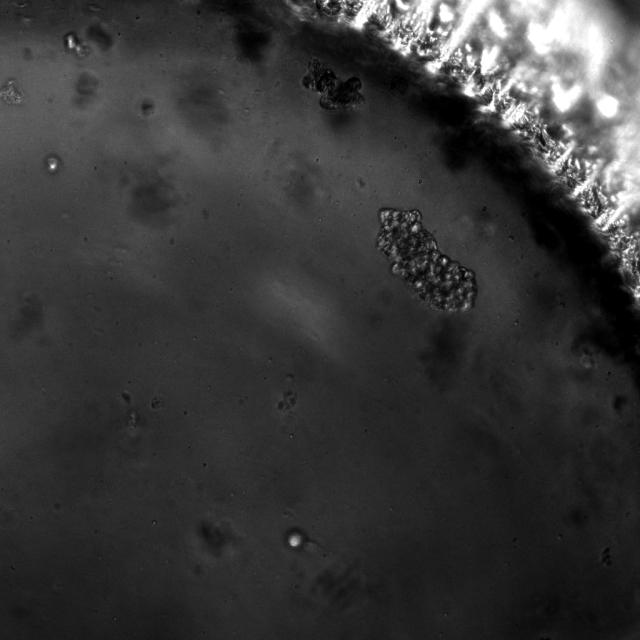organoid: (376, 209, 476, 310), (302, 58, 364, 111), (64, 32, 89, 58), (0, 78, 24, 104), (42, 153, 61, 174)
